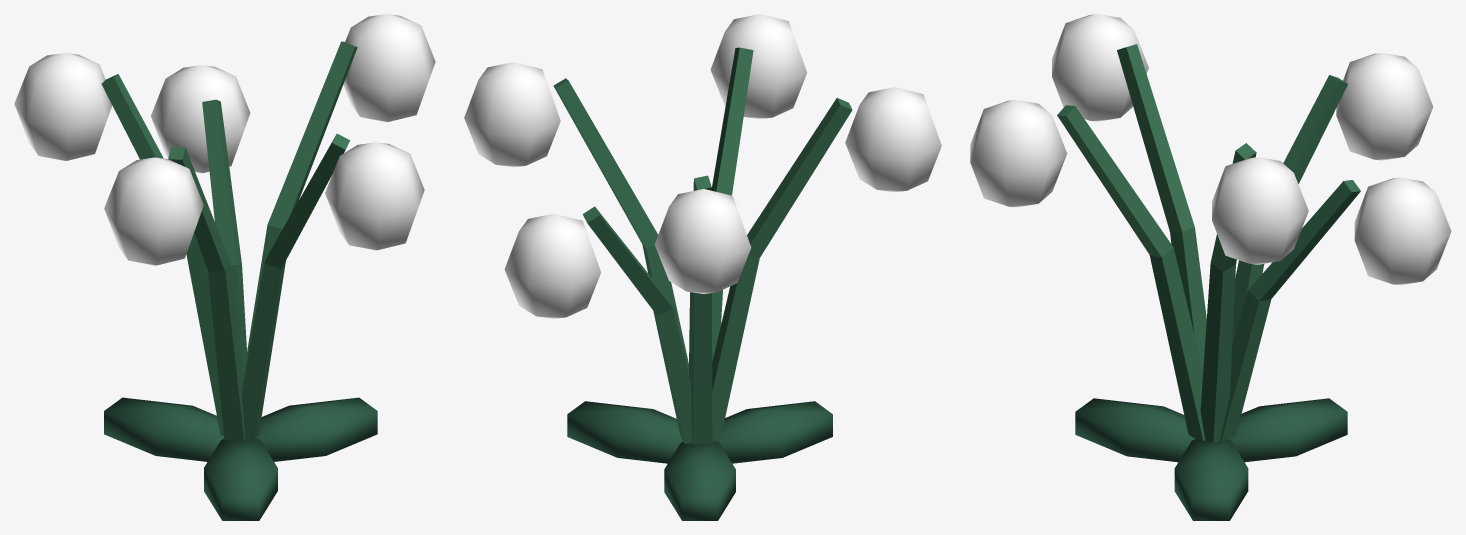
File: GlowFlowers.fbx
3 renders of one model, left to right at view 1: azimuth 30°, elevation 25°; view 2: azimuth 150°, elevation 25°; view 3: azimuth 270°, elevation 25°, orthographic. The views are drawn at different scales.
Parts seen in each view (by area): view 1: Frame, Glow; view 2: Frame, Glow; view 3: Frame, Glow.
Part boxes in pixels (x1=…): Frame: x1=101, y1=41, x2=377, y2=520; Glow: x1=14, y1=14, x2=435, y2=265; Frame: x1=553, y1=47, x2=852, y2=520; Glow: x1=464, y1=14, x2=941, y2=318; Frame: x1=1057, y1=44, x2=1360, y2=520; Glow: x1=970, y1=14, x2=1451, y2=285.
Size of the model in its own units: 1.08 by 1.04 by 1.13.
1 material, 1 textured.
